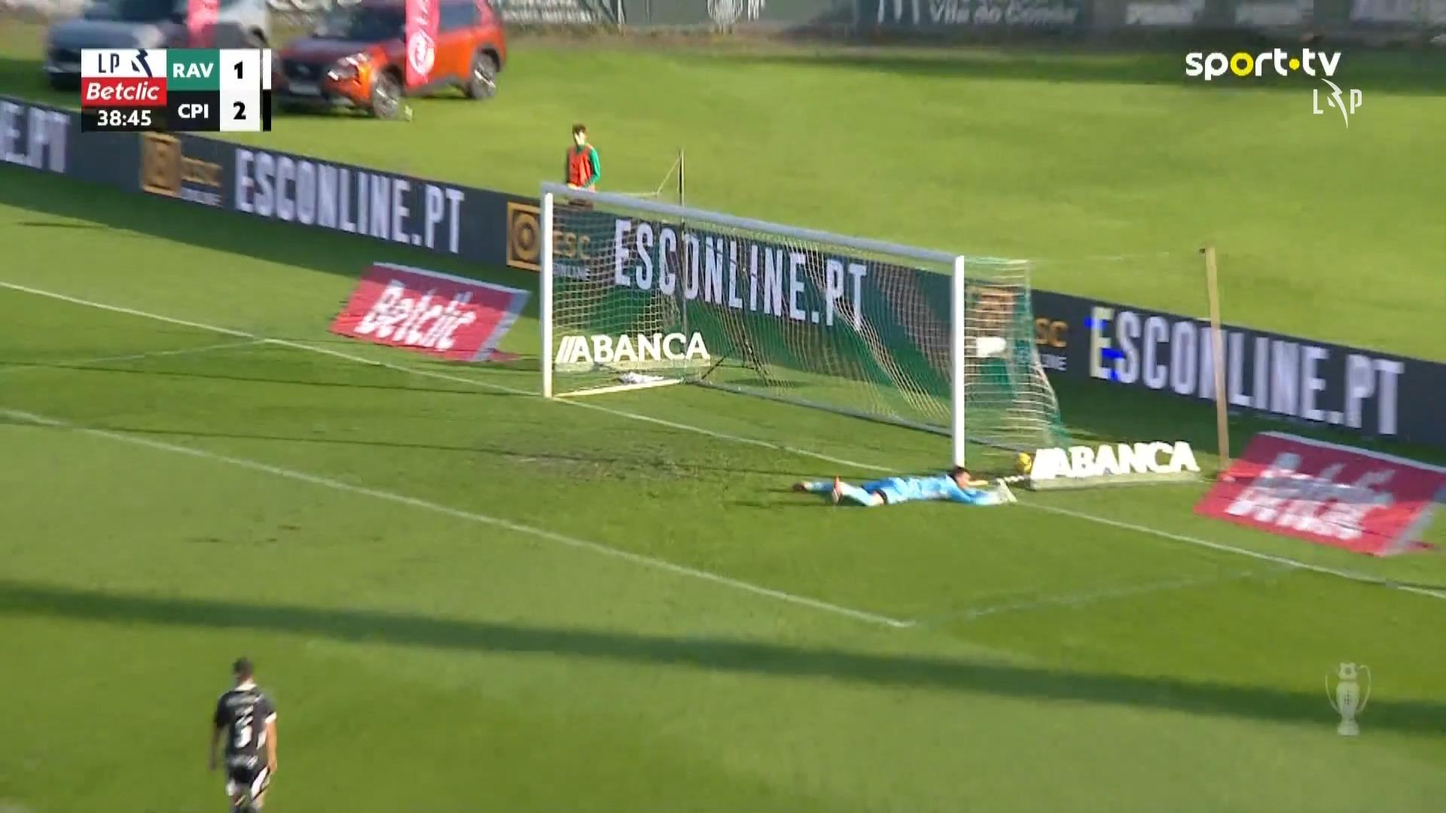ball: (975, 335, 1006, 358), (1008, 448, 1034, 473)
goalkeeper: (789, 464, 1014, 507)
referee: (206, 655, 279, 811)
